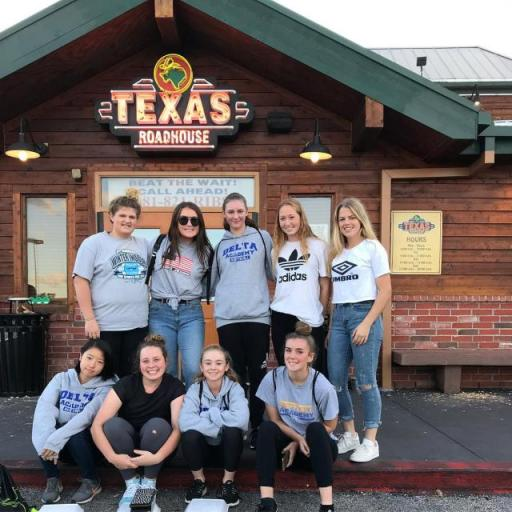Adidas: (274, 248, 312, 284)
